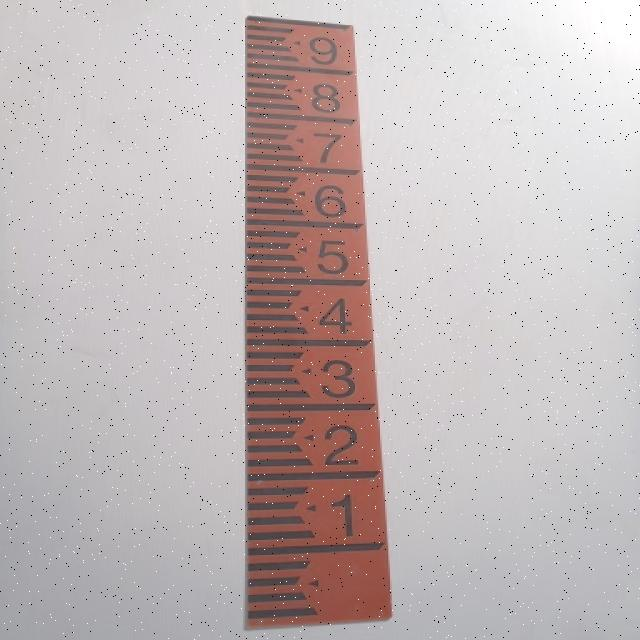staff: (240, 14, 393, 629)
